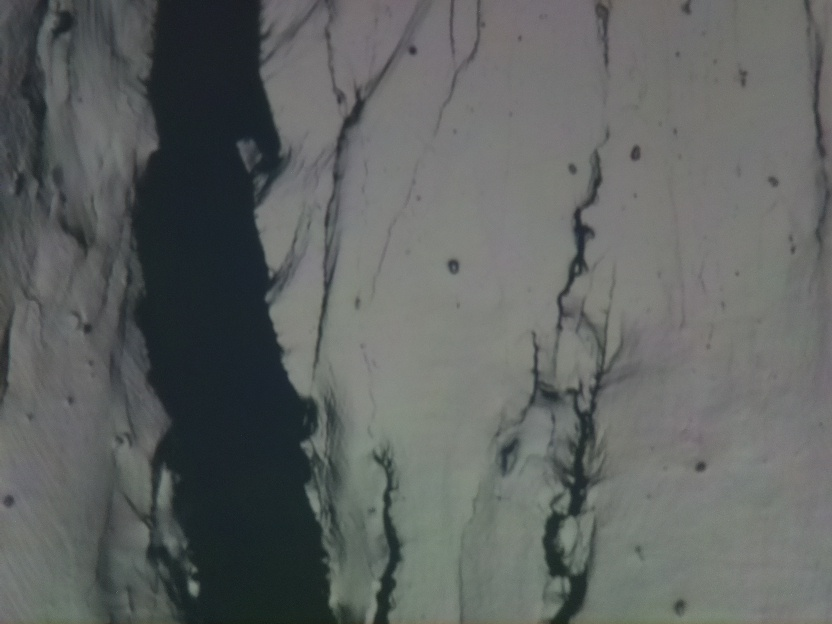crack: (133, 0, 322, 620), (541, 325, 623, 624), (546, 124, 611, 367), (366, 440, 409, 624), (800, 19, 830, 169), (519, 328, 540, 440)
